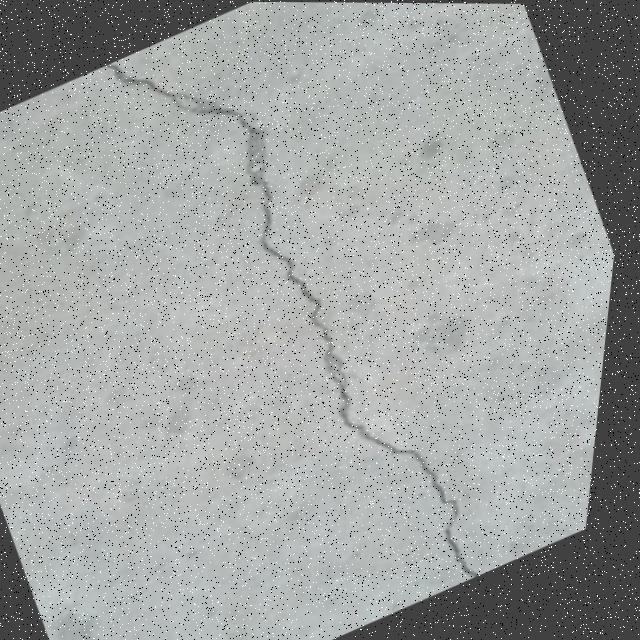crack: (111, 64, 475, 576)
